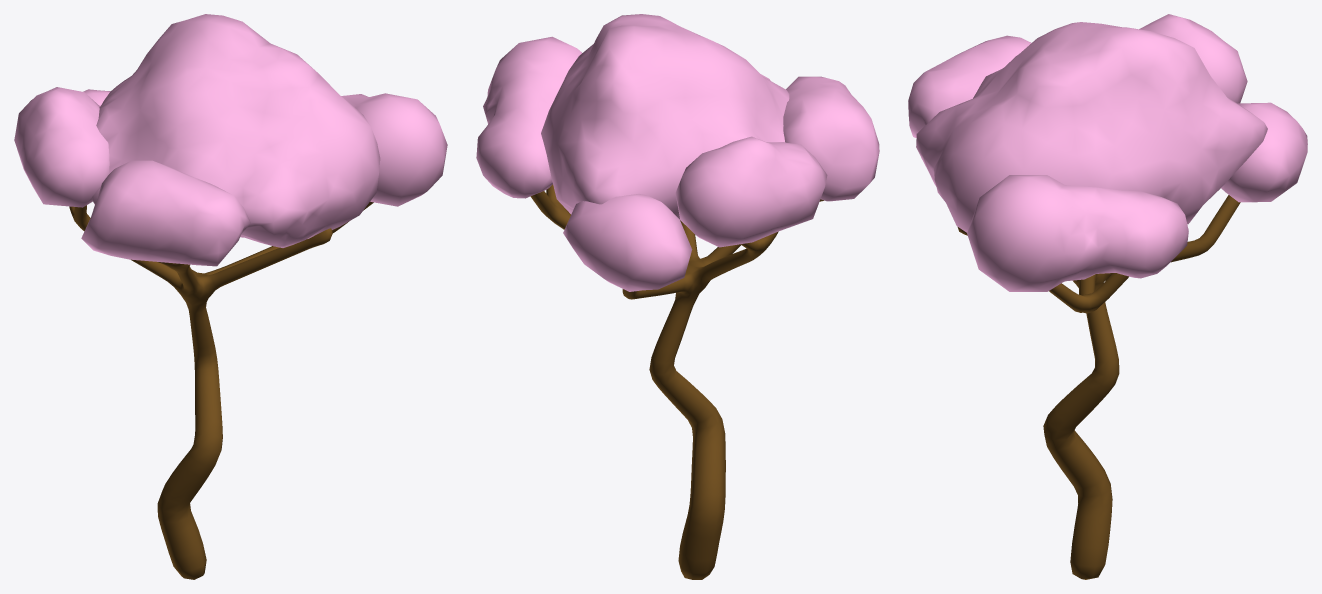
The model's file is BonsaiTree.fbx.
3 views of the same model, side by side, from view 1: azimuth 30°, elevation 25°; view 2: azimuth 150°, elevation 25°; view 3: azimuth 270°, elevation 25° (orthographic). The views are drawn at different scales.
Parts seen in each view (by area): view 1: Leaves, Trunk; view 2: Leaves, Trunk; view 3: Leaves, Trunk.
Boxes of the visible parts, <box> form: Leaves: <box>14,14,447,266</box>; Trunk: <box>69,201,373,579</box>; Leaves: <box>476,14,879,291</box>; Trunk: <box>530,184,823,579</box>; Leaves: <box>908,14,1307,291</box>; Trunk: <box>957,195,1240,579</box>.
Size of the model in its own units: 3.94 by 5.58 by 3.55.
